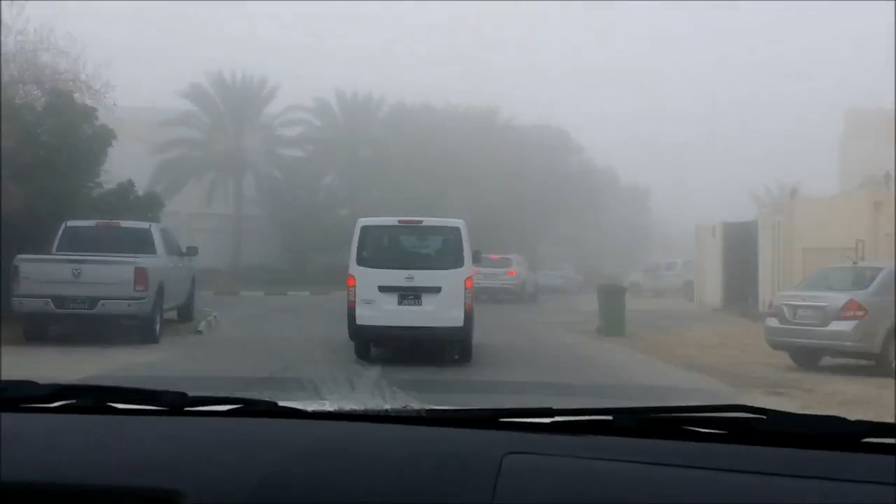car: (7, 219, 200, 343), (344, 214, 475, 362), (762, 249, 896, 373), (467, 252, 531, 304), (625, 256, 698, 300), (536, 259, 586, 294)
